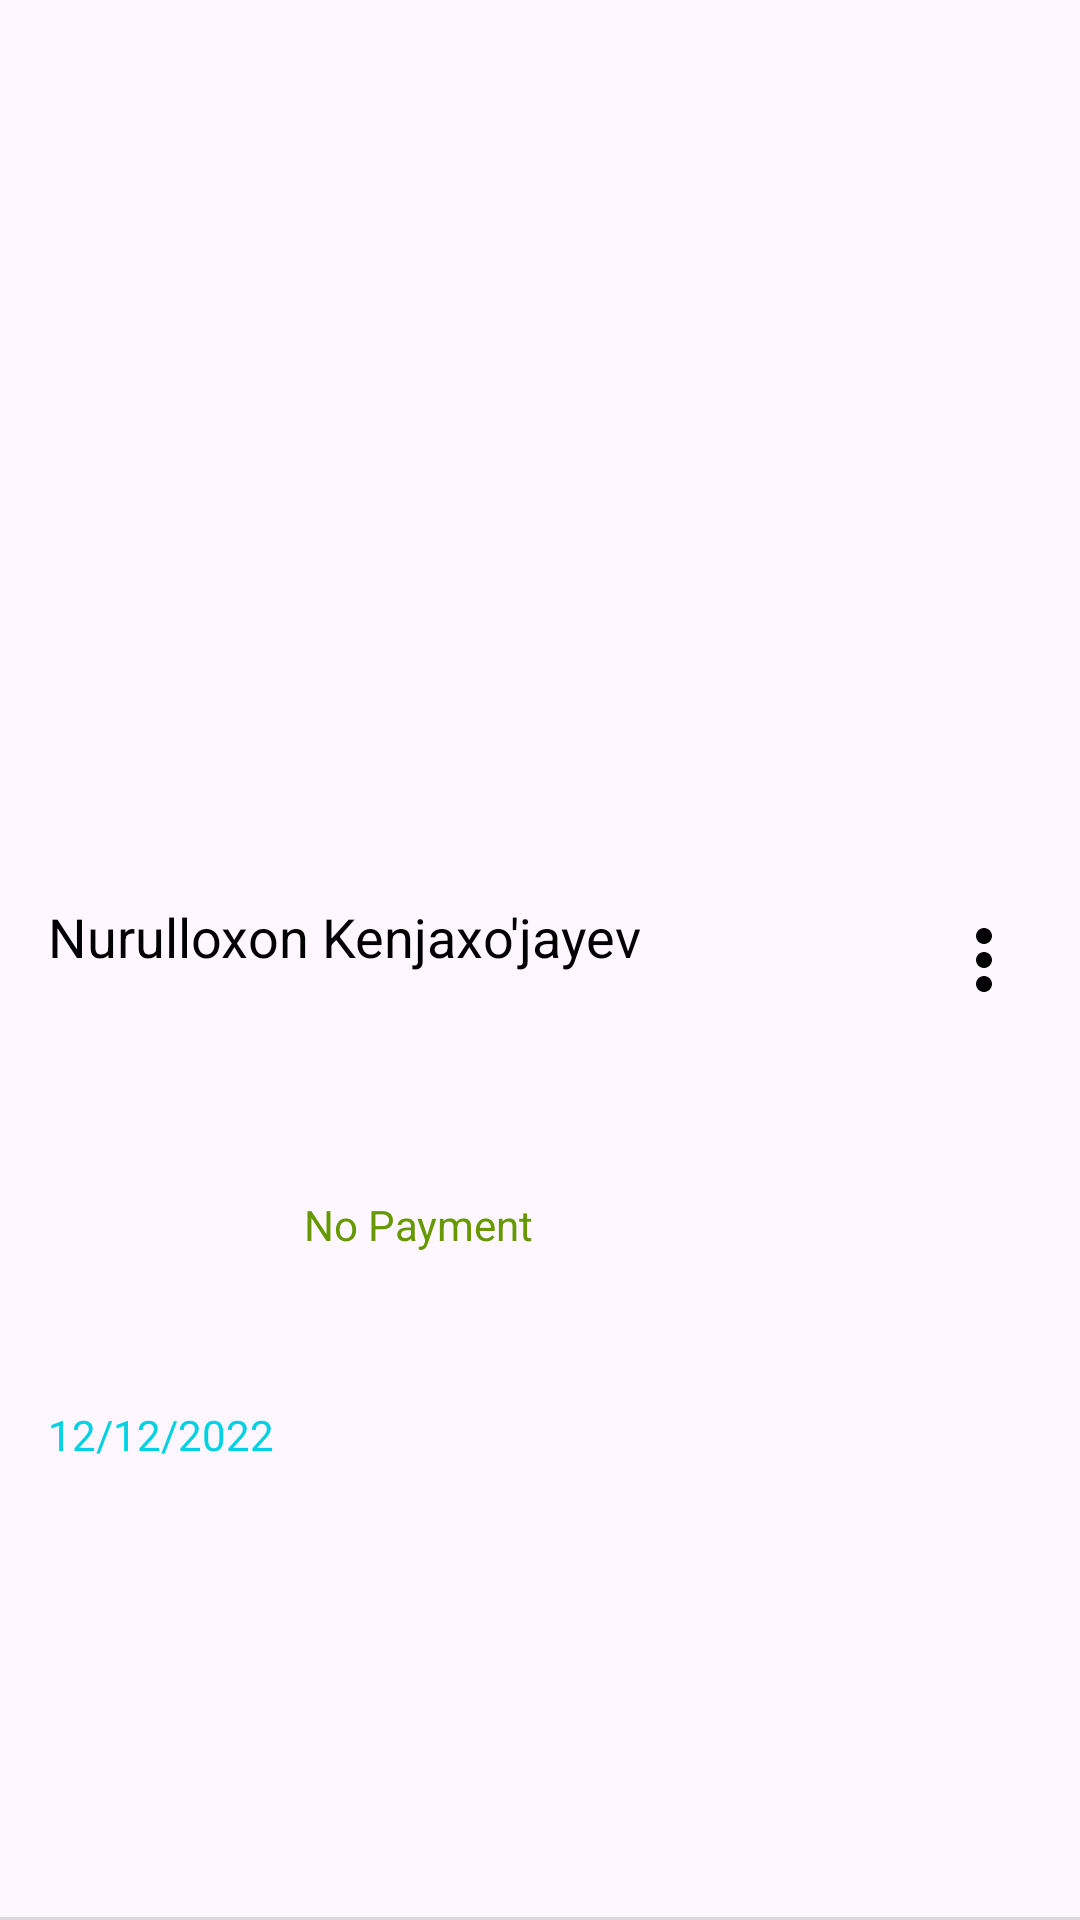

Screen size 1080w x 1920h. Icon name, then its center in pixels as point (x, y):
More Options: point (984, 960)
